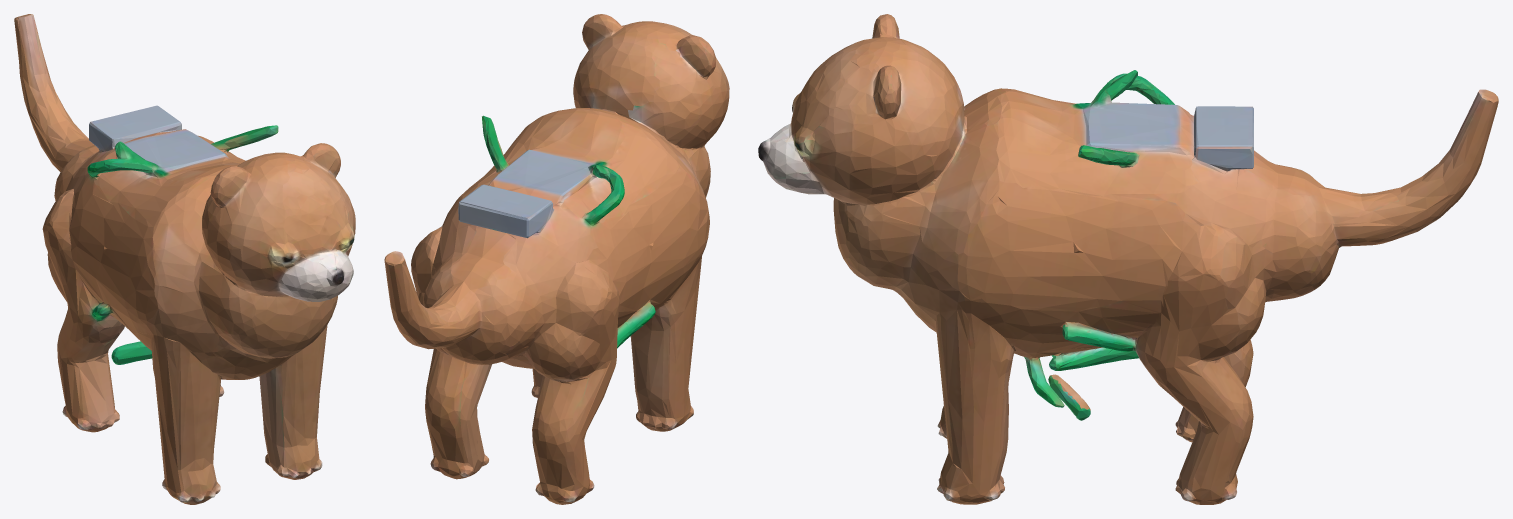
File: creature-008.lod.glb
3 views of the same model, side by side, from view 1: azimuth 30°, elevation 25°; view 2: azimuth 150°, elevation 25°; view 3: azimuth 270°, elevation 25° (orthographic). The views are drawn at different scales.
Visible parts, largest first — view 1: tmptxdoiehr.ply; view 2: tmptxdoiehr.ply; view 3: tmptxdoiehr.ply.
Part boxes in pixels (x1,y1,x2,y2): tmptxdoiehr.ply: [14, 14, 355, 504]; tmptxdoiehr.ply: [384, 14, 729, 504]; tmptxdoiehr.ply: [758, 14, 1498, 504].
Size of the model in its own units: 0.7121 by 1.27 by 1.99.
1 material, 1 textured.
